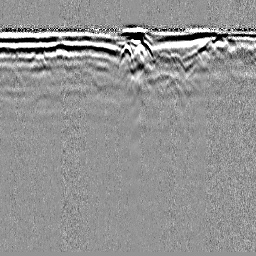cavity: (119, 42, 133, 64)
